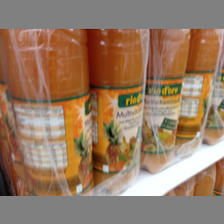juice: (1, 29, 93, 196), (89, 29, 145, 185), (143, 29, 191, 176)
